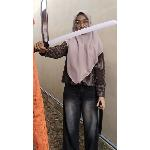Pedang: (33, 18, 117, 54)
